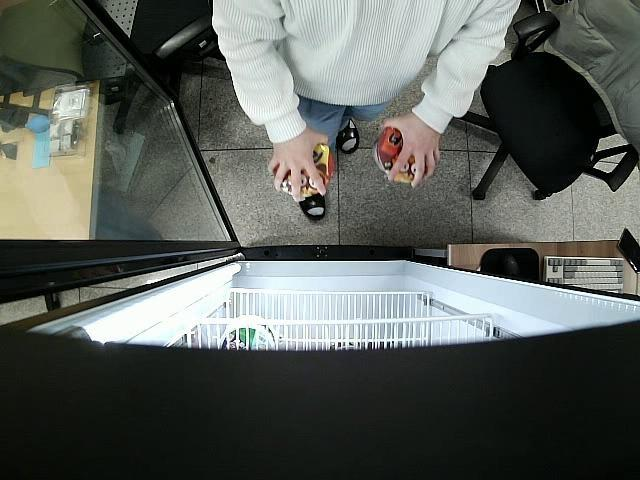05_nuguri_L: (274, 144, 330, 197), (372, 128, 424, 183)
